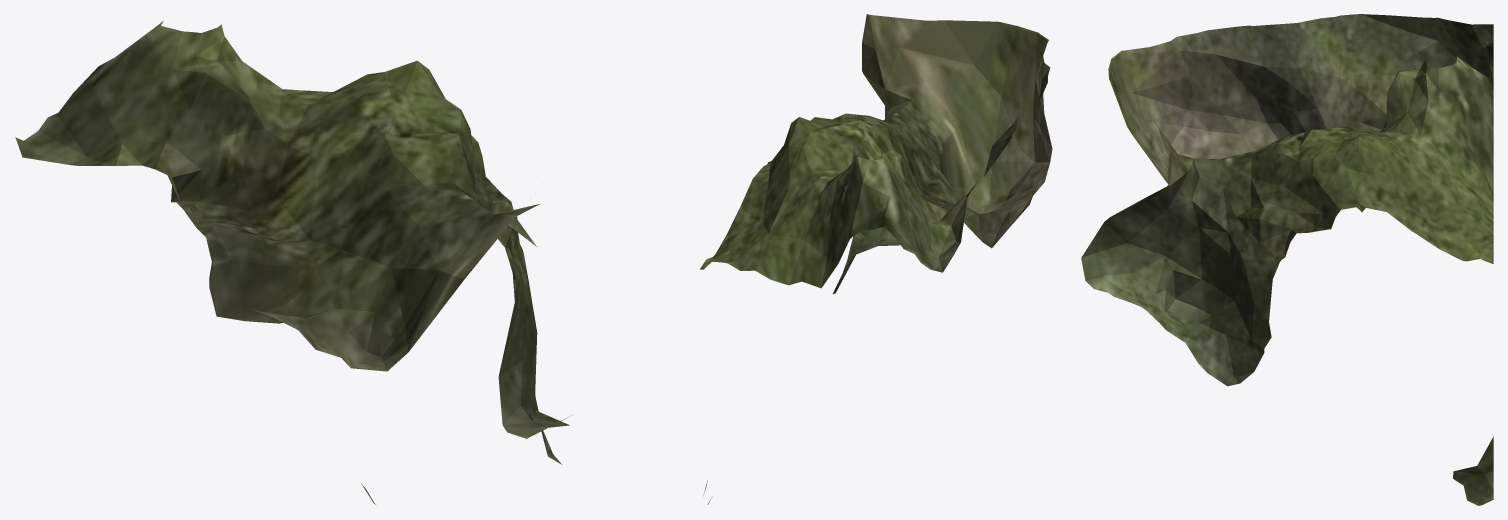
3 renders of one model, left to right at view 1: azimuth 30°, elevation 25°; view 2: azimuth 150°, elevation 25°; view 3: azimuth 270°, elevation 25°, orthographic. The views are drawn at different scales.
Size of the model in its own units: 2.57 by 3.76 by 3.75.
Materials: 1 (1 with a texture image).
